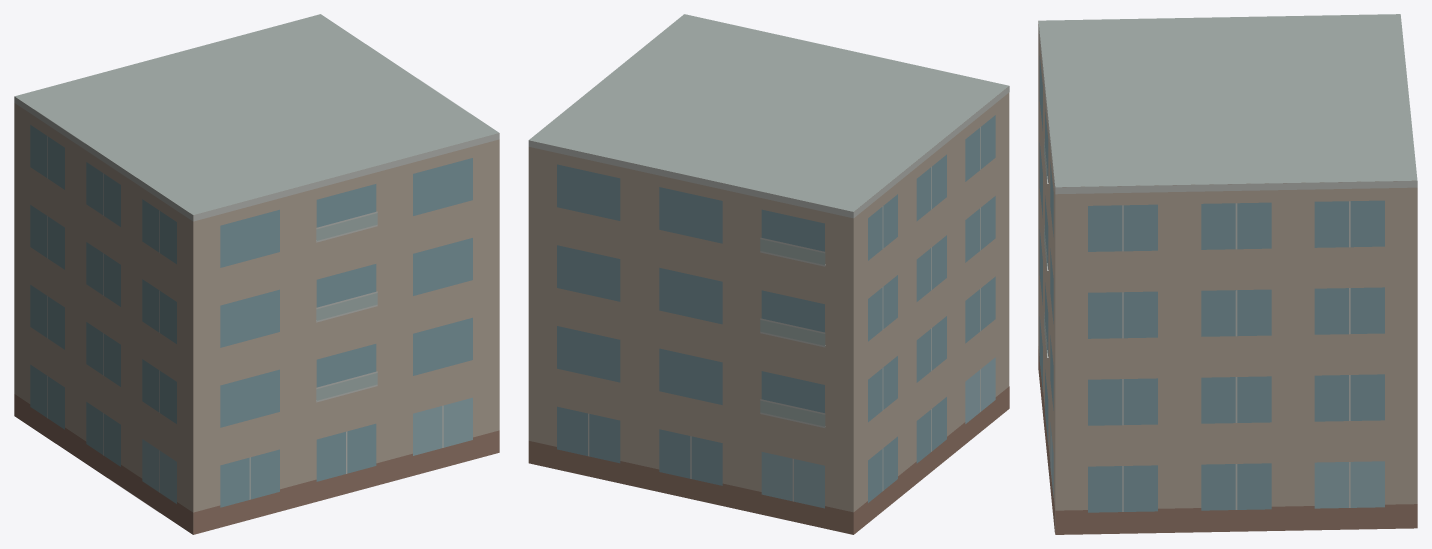
File: residential-ab784b2b-6e30-48c8-a98f-99023f379b64.glb
3 views of the same model, side by side, from view 1: azimuth 30°, elevation 25°; view 2: azimuth 150°, elevation 25°; view 3: azimuth 270°, elevation 25° (orthographic). The views are drawn at different scales.
Visible parts, largest first — view 1: residential-ab784b2b-6e30-48c8-a98f-99023f379b64.tmp; view 2: residential-ab784b2b-6e30-48c8-a98f-99023f379b64.tmp; view 3: residential-ab784b2b-6e30-48c8-a98f-99023f379b64.tmp.
Boxes of the visible parts, x1,y1,x2,y2 form: residential-ab784b2b-6e30-48c8-a98f-99023f379b64.tmp: [14, 14, 499, 534]; residential-ab784b2b-6e30-48c8-a98f-99023f379b64.tmp: [528, 14, 1009, 534]; residential-ab784b2b-6e30-48c8-a98f-99023f379b64.tmp: [1038, 14, 1417, 534].
Size of the model in its own units: 13.05 by 12.2 by 12.07.
